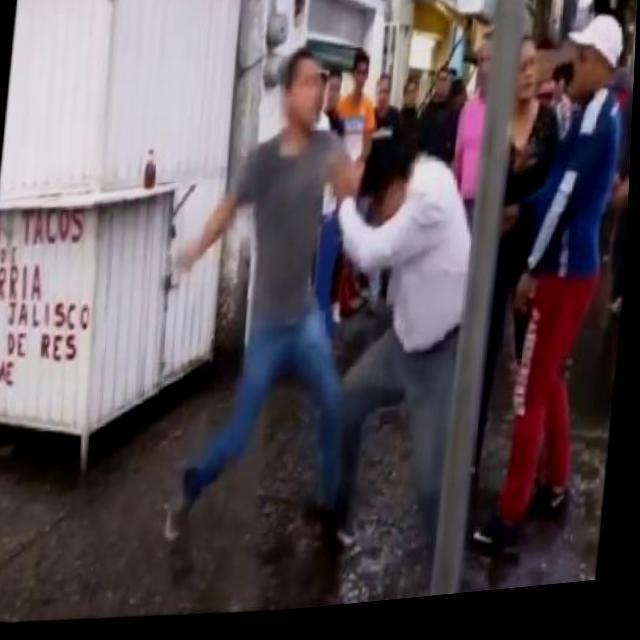fight: (140, 34, 490, 568)
